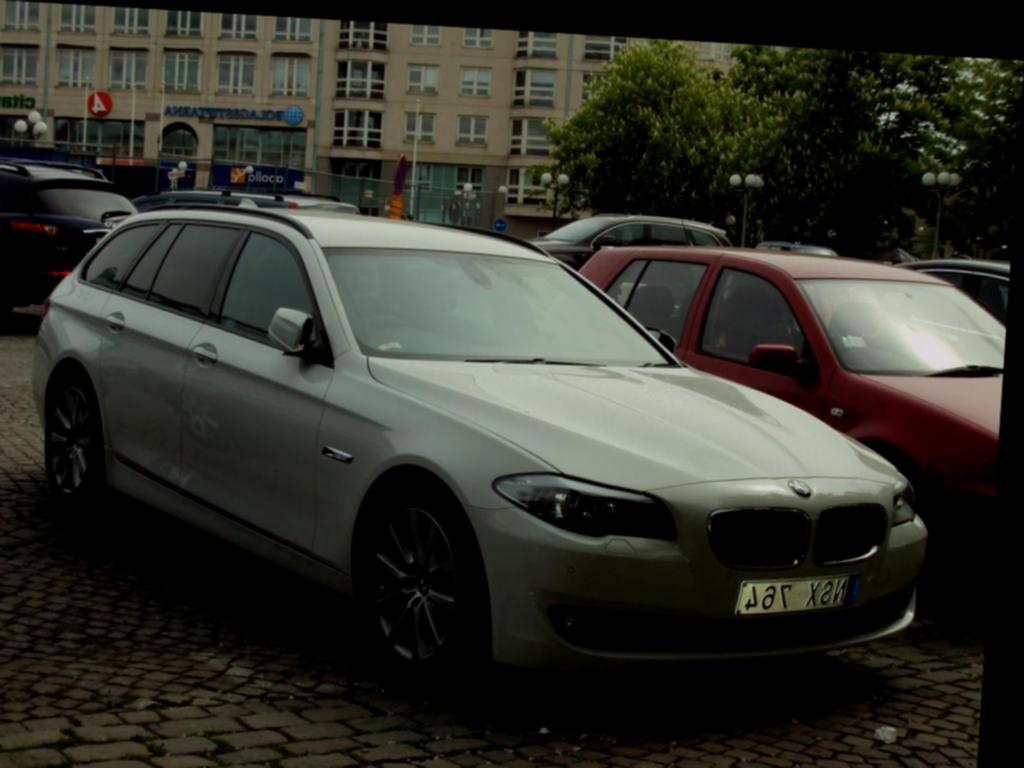License_Plate: (728, 562, 865, 629)
